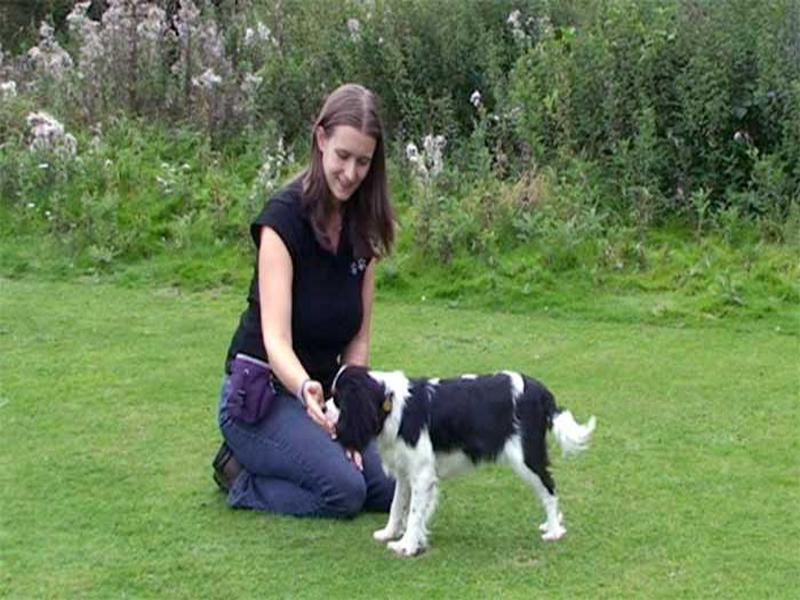dog_stand: (319, 358, 604, 560)
